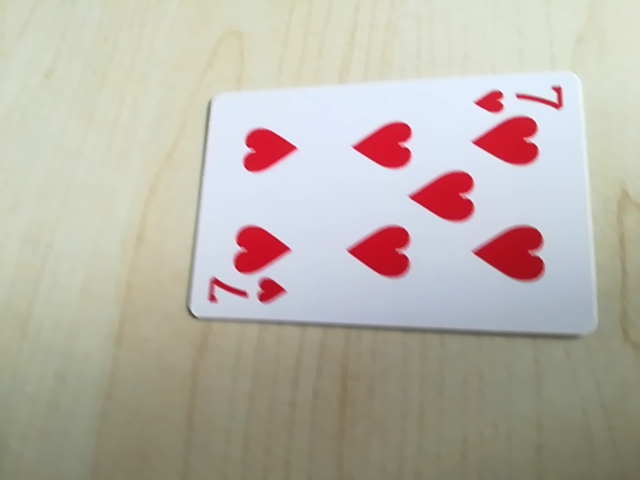hx 7: (470, 77, 568, 119), (204, 273, 290, 314)
